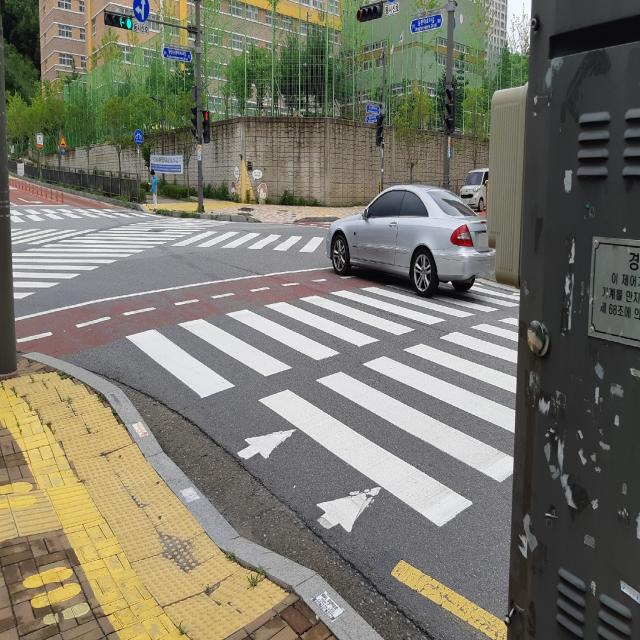빨간불: (204, 111, 210, 141)
횡단보도: (126, 274, 523, 538), (120, 220, 320, 252), (11, 205, 128, 245), (17, 239, 73, 291)
